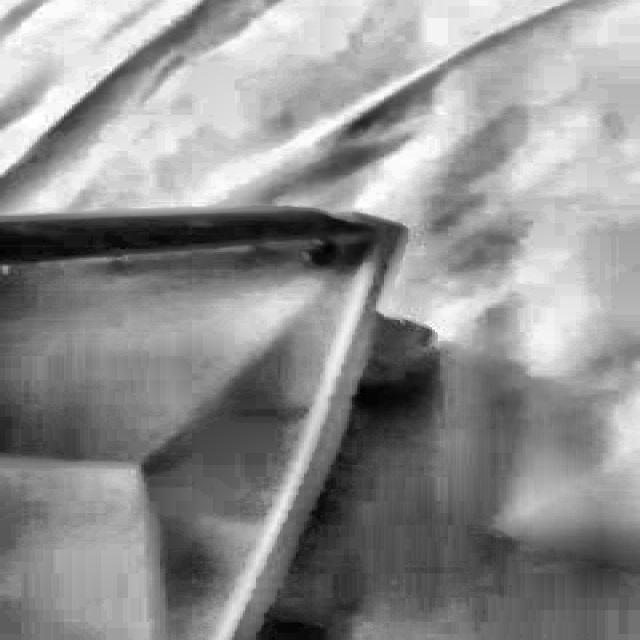dump_truck: (0, 204, 445, 640)
